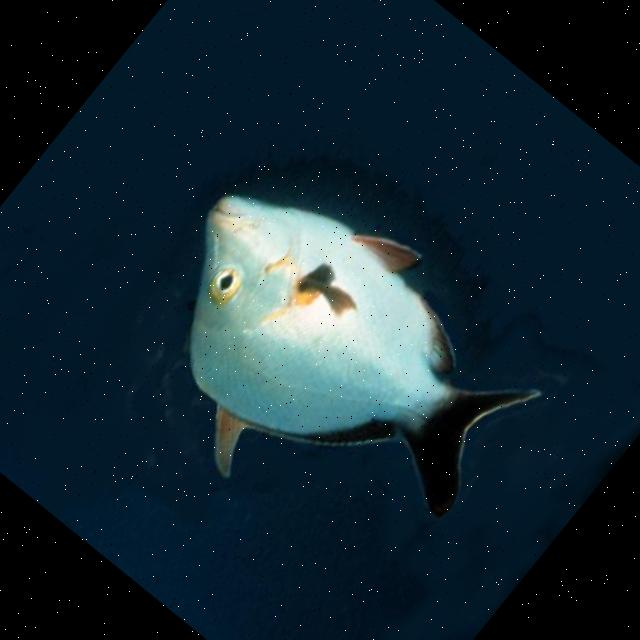ikan: (80, 131, 566, 605)
